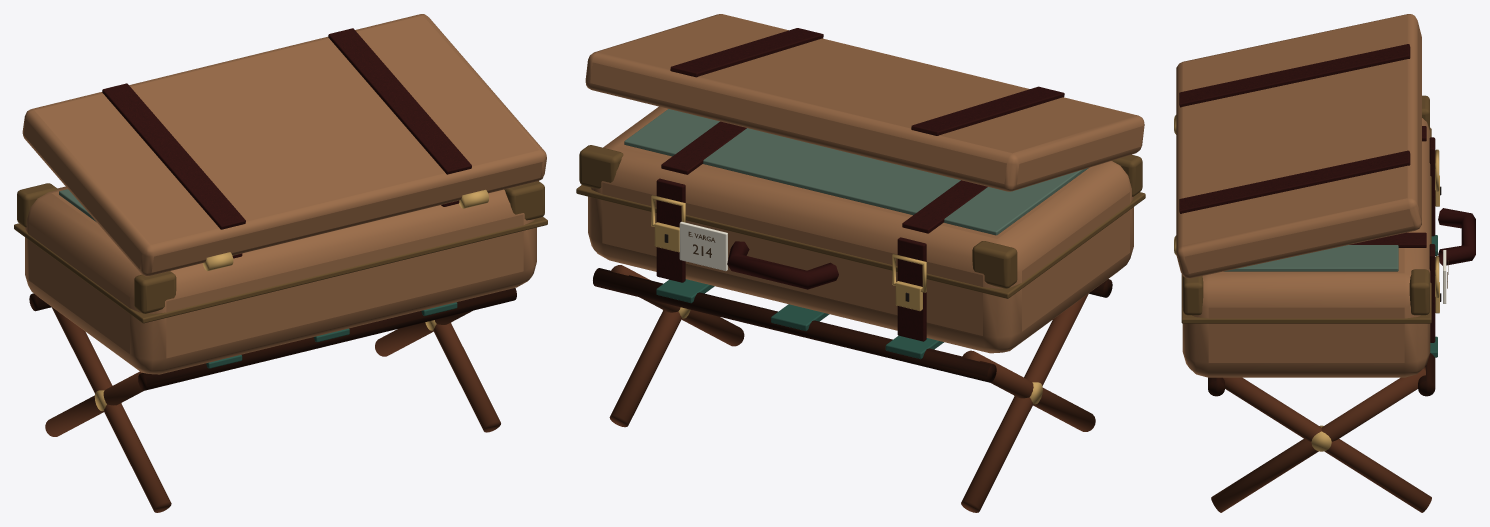
File: hotel-guest-suitcase.glb
The picture shows the model from 3 angles, left to right: view 1: azimuth 30°, elevation 25°; view 2: azimuth 150°, elevation 25°; view 3: azimuth 270°, elevation 25°; orthographic projection. The views are drawn at different scales.
Visible parts, largest first — view 1: Honey saddle leather, Oxblood calfskin, Dark carved walnut, Aged bronze shadow details, French walnut • quarter-sawn grain, Warm satin brass, Bottle green leather writing pad; view 2: Honey saddle leather, Muted green suitcase lining, Oxblood calfskin, Dark carved walnut, Aged bronze shadow details, French walnut • quarter-sawn grain, Bottle green leather writing pad, Warm satin brass, Warm uncoated paper; view 3: Honey saddle leather, Oxblood calfskin, Dark carved walnut, Aged bronze shadow details, Muted green suitcase lining, Warm satin brass, French walnut • quarter-sawn grain.
Part boxes in pixels (<box>): Honey saddle leather: <box>22,14,546,374</box>; Oxblood calfskin: <box>102,28,471,258</box>; Dark carved walnut: <box>45,307,500,512</box>; Aged bronze shadow details: <box>14,181,547,323</box>; French walnut • quarter-sawn grain: <box>29,288,516,390</box>; Warm satin brass: <box>94,189,488,410</box>; Bottle green leather writing pad: <box>206,302,457,368</box>; Honey saddle leather: <box>585,14,1144,353</box>; Muted green suitcase lining: <box>624,109,1088,235</box>; Oxblood calfskin: <box>656,28,1064,341</box>; Dark carved walnut: <box>609,265,1095,512</box>; Aged bronze shadow details: <box>576,145,1145,298</box>; French walnut • quarter-sawn grain: <box>593,268,1112,382</box>; Bottle green leather writing pad: <box>656,279,943,359</box>; Warm satin brass: <box>651,195,1042,404</box>; Warm uncoated paper: <box>679,221,727,270</box>; Honey saddle leather: <box>1176,14,1430,377</box>; Oxblood calfskin: <box>1179,44,1475,342</box>; Dark carved walnut: <box>1211,367,1431,512</box>; Aged bronze shadow details: <box>1181,95,1431,323</box>; Muted green suitcase lining: <box>1224,245,1398,271</box>; Warm satin brass: <box>1174,115,1439,451</box>; French walnut • quarter-sawn grain: <box>1208,353,1435,396</box>.
Size of the model in its own units: 1.11 by 0.9 by 0.7429.
Materials: 11 (2 with a texture image).
